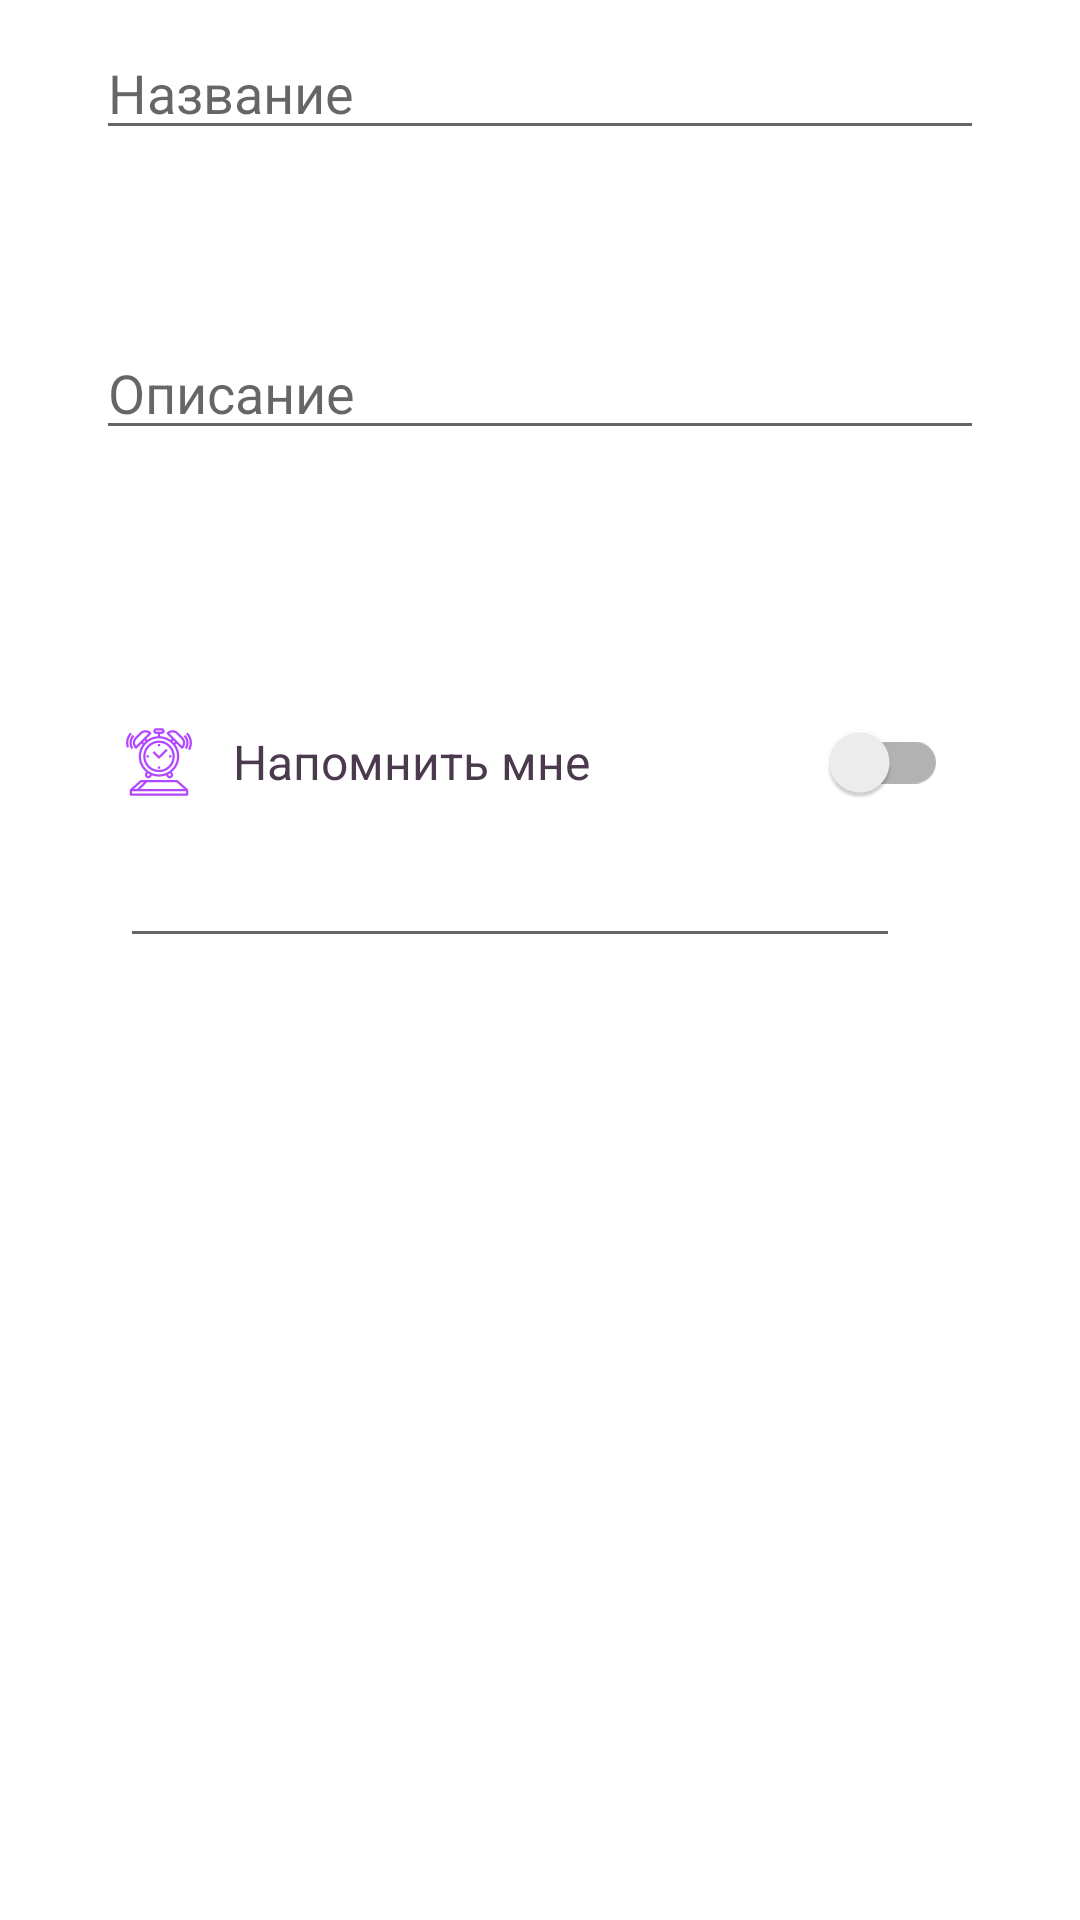

Screen size 1080x1920. Icon name, then its box in pixels as (x1,y1,x2,y2):
alarm: (126,728,192,796)
